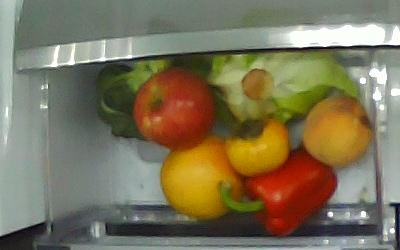apple: (134, 70, 213, 149)
broccoli: (96, 53, 175, 143)
grapefruit: (161, 136, 243, 217)
lettuce: (207, 50, 360, 127)
paprika: (217, 147, 336, 237)
pear: (303, 97, 371, 169)
persimmon: (225, 117, 289, 173)
